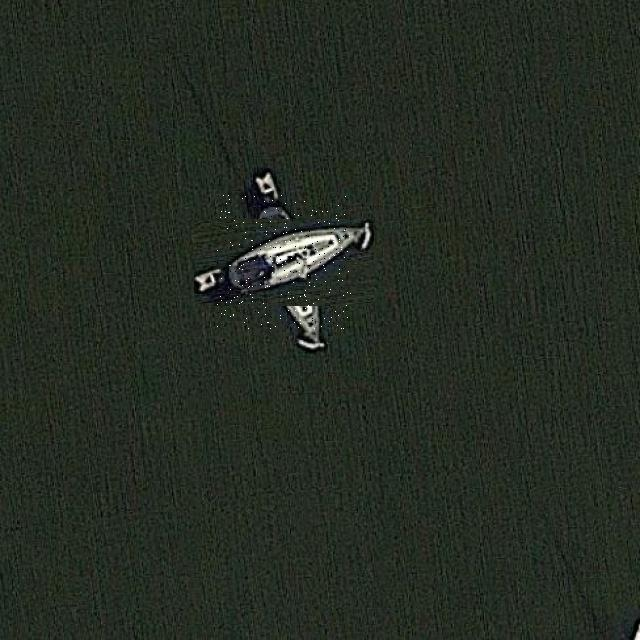boat: (217, 195, 351, 329)
